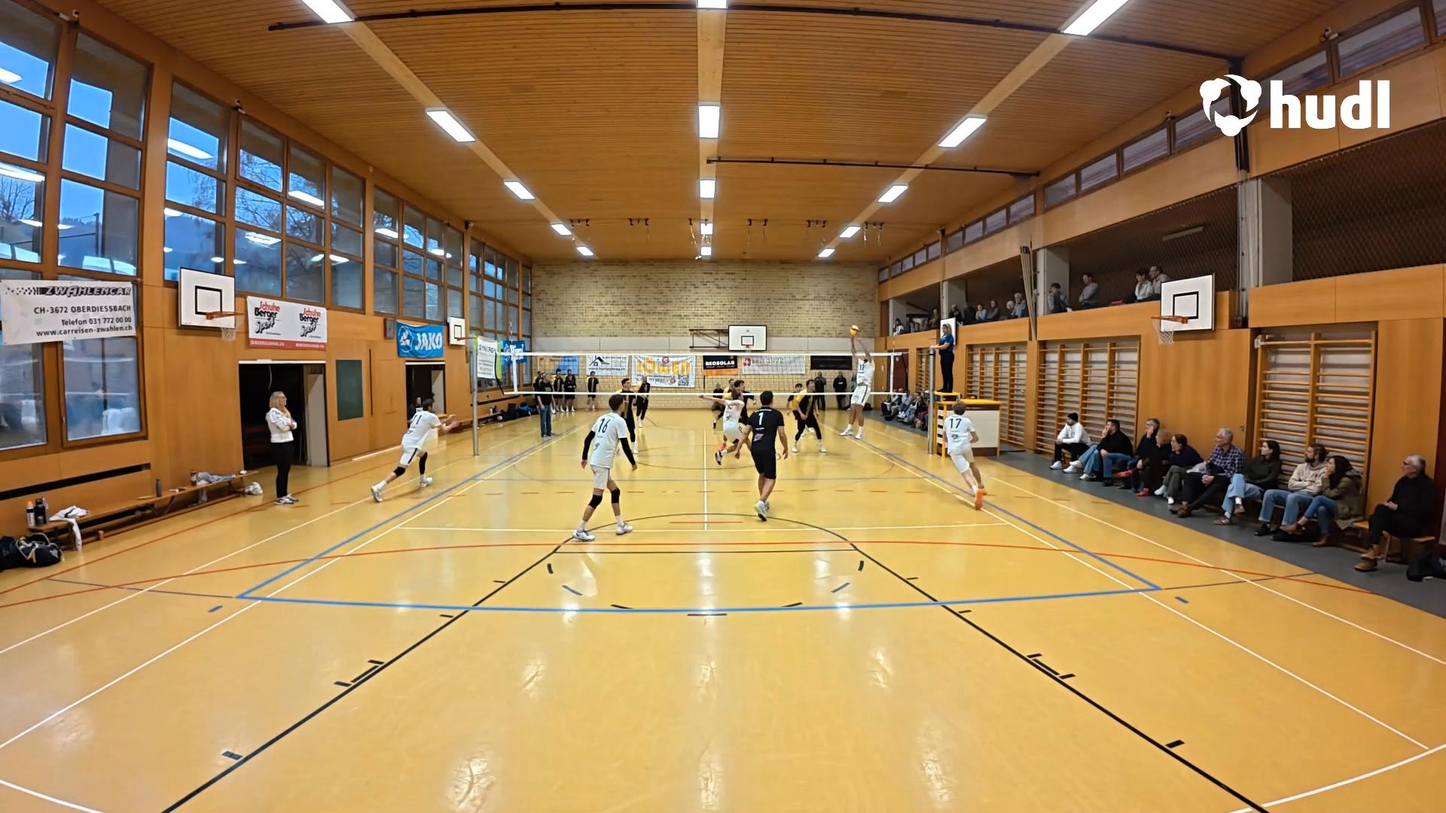alzata: (839, 324, 879, 443)
